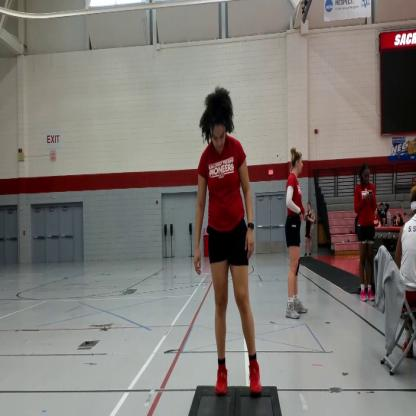lateral_flexion_normal: (190, 85, 267, 402)
stance_width_normal: (191, 132, 266, 403)
